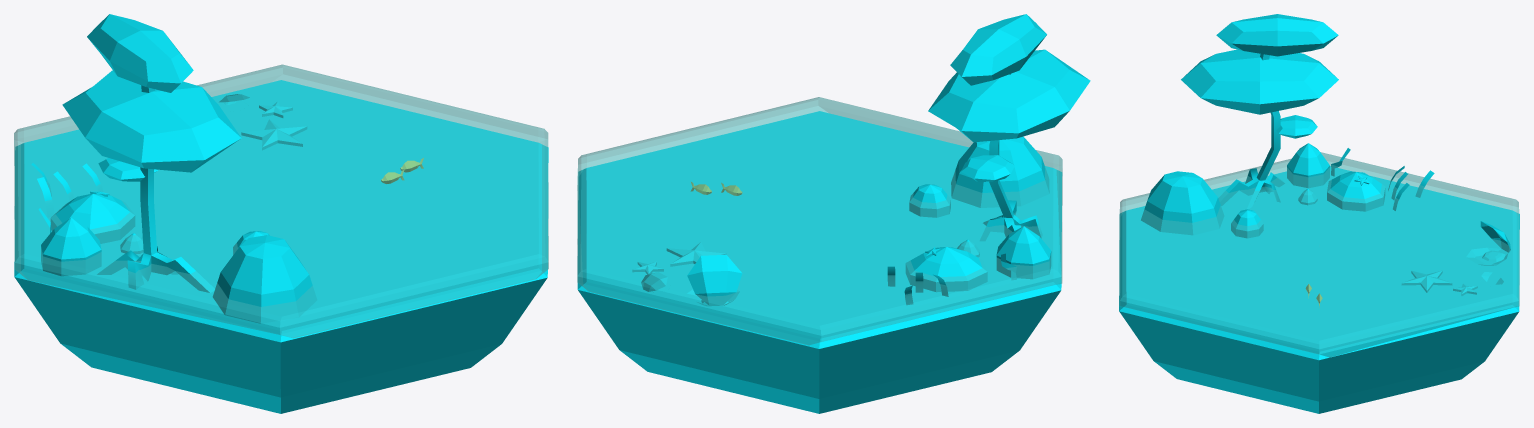
Rendered from Asset_Biome_Beach.fbx.
The picture shows the model from 3 angles, left to right: view 1: azimuth 30°, elevation 25°; view 2: azimuth 150°, elevation 25°; view 3: azimuth 270°, elevation 25°; orthographic projection. The views are drawn at different scales.
Visible parts, largest first — view 1: Asset_Tile_Sand, Asset_Tile_Water, PolySurface_Tree, PolySurface_Rock_05, PolySurface_Rock_01, PolySurface_Rock_02, PolySurface_Star_02; view 2: Asset_Tile_Sand, Asset_Tile_Water, PolySurface_Tree, PolySurface_Rock_05, PolySurface_Rock_02, PolySurface_Sea_shell_01, PolySurface_Rock_01, PolySurface_Rock_04, PolySurface_Star_02; view 3: Asset_Tile_Sand, Asset_Tile_Water, PolySurface_Tree, PolySurface_Rock_05, PolySurface_Rock_02, PolySurface_Rock_01, PolySurface_Sea_shell_01, PolySurface_Rock_04, PolySurface_Star_02.
Boxes of the visible parts, bbox=[...] form: Asset_Tile_Sand: bbox=[14, 80, 548, 413]; Asset_Tile_Water: bbox=[14, 64, 548, 338]; PolySurface_Tree: bbox=[62, 14, 241, 292]; PolySurface_Rock_05: bbox=[213, 235, 316, 323]; PolySurface_Rock_01: bbox=[41, 217, 101, 276]; PolySurface_Rock_02: bbox=[50, 193, 135, 243]; PolySurface_Star_02: bbox=[241, 119, 307, 150]; Asset_Tile_Sand: bbox=[577, 111, 1061, 413]; Asset_Tile_Water: bbox=[577, 97, 1062, 345]; PolySurface_Tree: bbox=[928, 14, 1090, 241]; PolySurface_Rock_05: bbox=[951, 136, 1049, 207]; PolySurface_Rock_02: bbox=[905, 247, 987, 292]; PolySurface_Sea_shell_01: bbox=[686, 254, 742, 306]; PolySurface_Rock_01: bbox=[996, 226, 1051, 279]; PolySurface_Rock_04: bbox=[909, 184, 950, 217]; PolySurface_Star_02: bbox=[666, 242, 726, 266]; Asset_Tile_Sand: bbox=[1119, 166, 1519, 413]; Asset_Tile_Water: bbox=[1119, 152, 1519, 357]; PolySurface_Tree: bbox=[1181, 14, 1338, 208]; PolySurface_Rock_05: bbox=[1141, 171, 1224, 235]; PolySurface_Rock_02: bbox=[1327, 171, 1385, 211]; PolySurface_Rock_01: bbox=[1287, 143, 1329, 188]; PolySurface_Sea_shell_01: bbox=[1465, 221, 1510, 265]; PolySurface_Rock_04: bbox=[1231, 209, 1263, 238]; PolySurface_Star_02: bbox=[1401, 271, 1452, 292].
Size of the model in its own units: 436 by 284 by 378.
3 materials, 2 textured.
